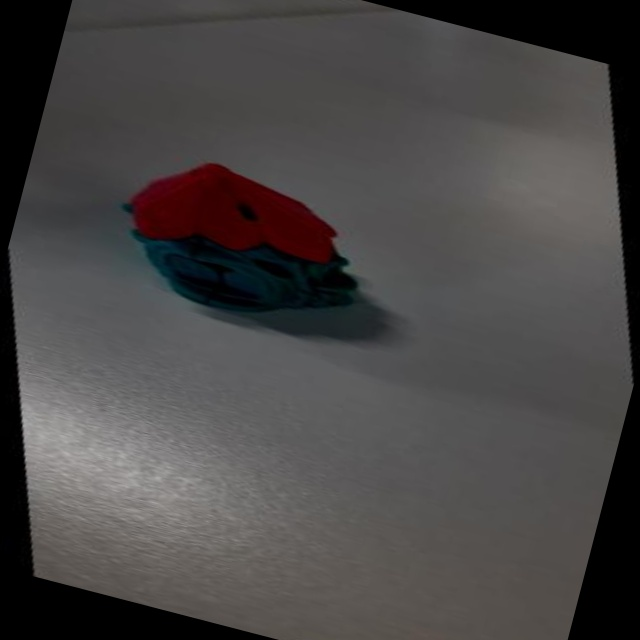House: (77, 118, 424, 359)
